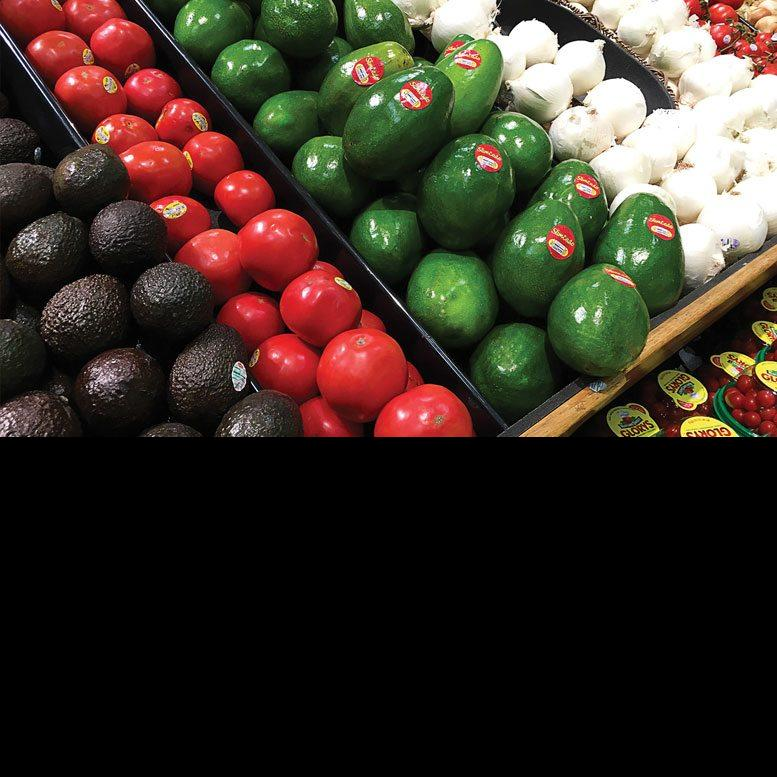ripe: (169, 322, 251, 424), (72, 348, 169, 431), (40, 273, 129, 362), (130, 262, 215, 347), (89, 199, 168, 277), (12, 211, 88, 291), (52, 144, 130, 218), (214, 390, 303, 437), (13, 389, 83, 436), (12, 163, 55, 233), (11, 119, 45, 162)
unripe: (342, 66, 455, 180), (545, 263, 650, 379), (592, 192, 685, 316), (416, 134, 515, 250), (491, 200, 586, 318), (406, 247, 499, 349), (318, 41, 416, 133), (468, 323, 561, 415), (524, 158, 608, 247), (350, 192, 426, 285), (436, 39, 504, 134), (481, 111, 553, 191), (210, 39, 290, 110), (174, 1, 254, 72), (291, 135, 366, 209), (253, 91, 335, 154), (260, 1, 338, 59), (342, 1, 416, 52)
